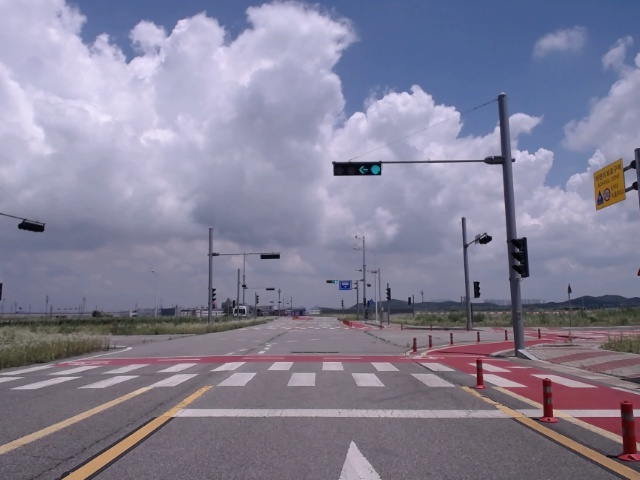all_green_4: (336, 161, 383, 176)
